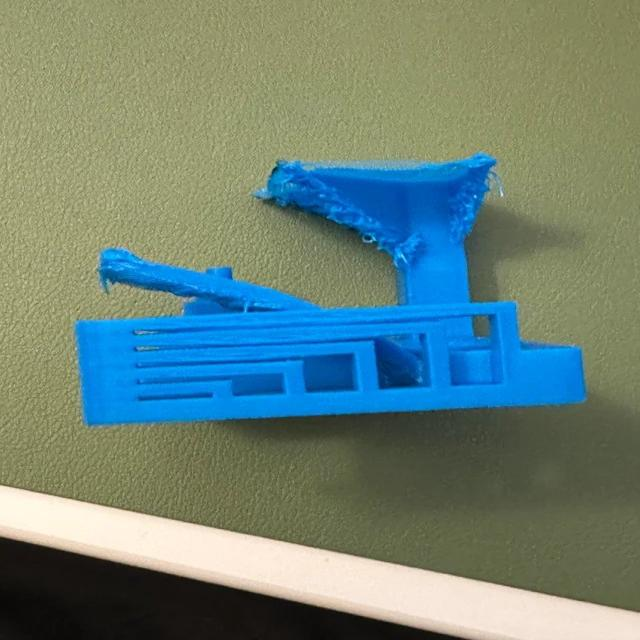spaghetti: (243, 138, 514, 267)
